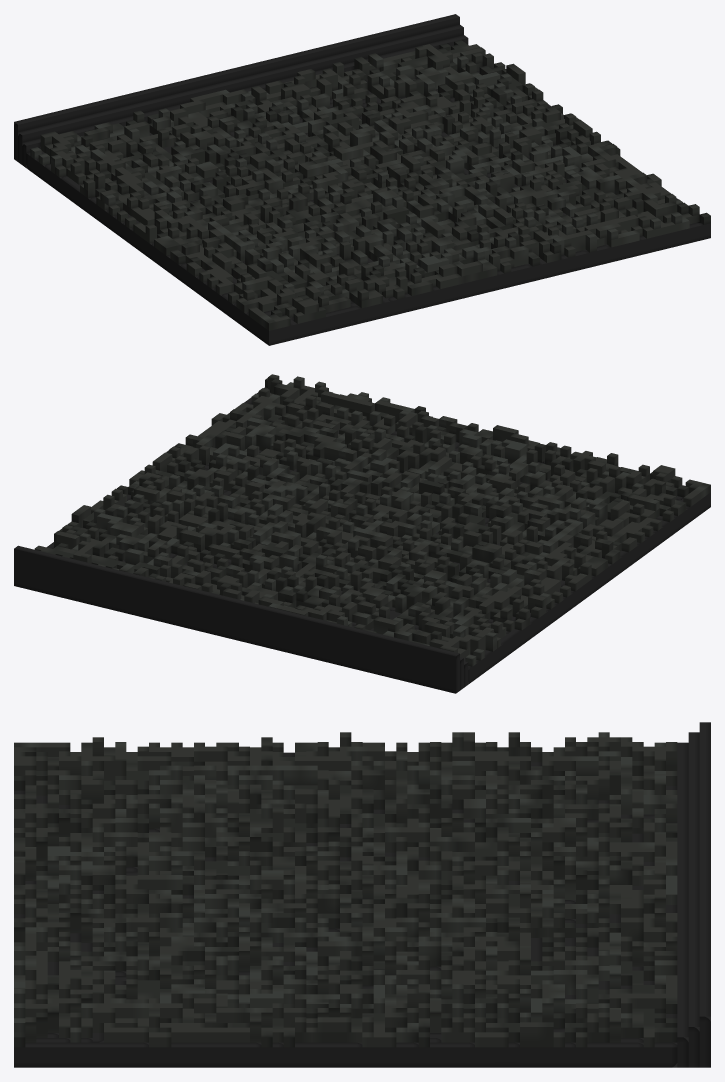
The model's file is DarkFloorTopEdge.fbx.
The picture shows the model from 3 angles, top to bottom: view 1: azimuth 30°, elevation 25°; view 2: azimuth 150°, elevation 25°; view 3: azimuth 270°, elevation 25°; orthographic projection. The views are drawn at different scales.
Parts seen in each view (by area): view 1: Model; view 2: Model; view 3: Model.
Boxes of the visible parts, x1,y1,x2,y2 form: Model: (14, 14, 710, 345); Model: (14, 374, 710, 693); Model: (14, 722, 710, 1067).
Bounding box in the file's own units: 3200 × 258 × 3200.
1 material, 1 textured.
